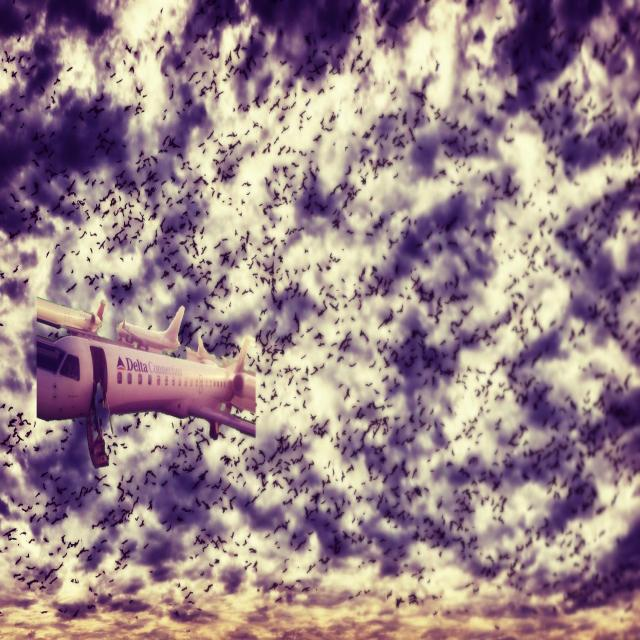airplane: (35, 296, 257, 468), (115, 304, 185, 354)
